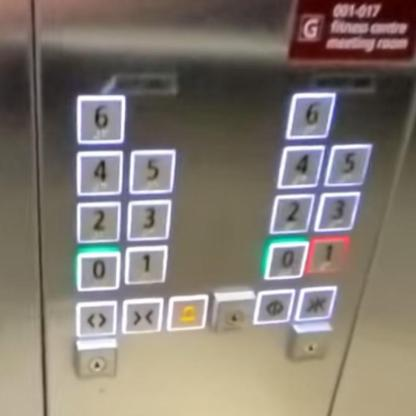0: (255, 233, 312, 286), (72, 245, 122, 296)
1: (301, 232, 354, 280), (121, 242, 169, 286)
2: (265, 188, 316, 238), (70, 199, 122, 246)
3: (312, 188, 362, 235), (123, 197, 172, 243)
4: (270, 142, 325, 194), (72, 146, 125, 197)
5: (126, 146, 176, 199), (323, 140, 374, 190)
6: (282, 86, 336, 146), (72, 92, 129, 147)
alarm: (166, 294, 209, 334)
bt_keyhole: (209, 289, 256, 336), (72, 337, 120, 381), (286, 322, 334, 361)
close: (292, 284, 339, 325), (121, 296, 166, 336)
open: (249, 284, 296, 326), (74, 299, 119, 339)
